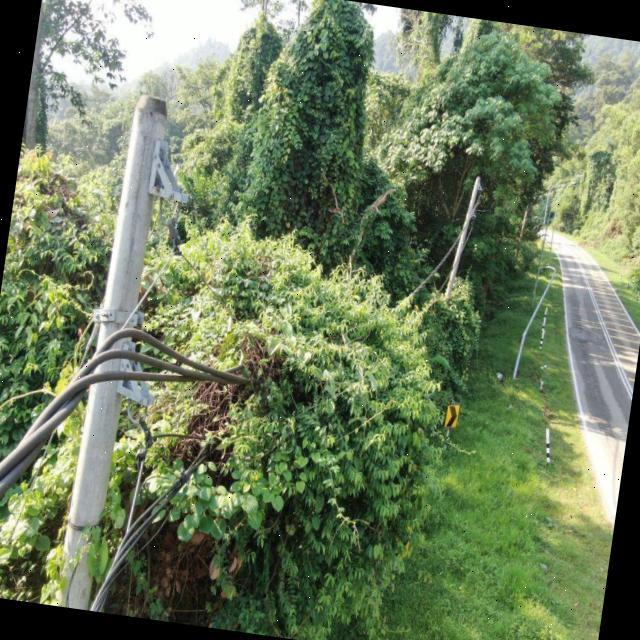critical vegetation: (178, 260, 436, 516)
